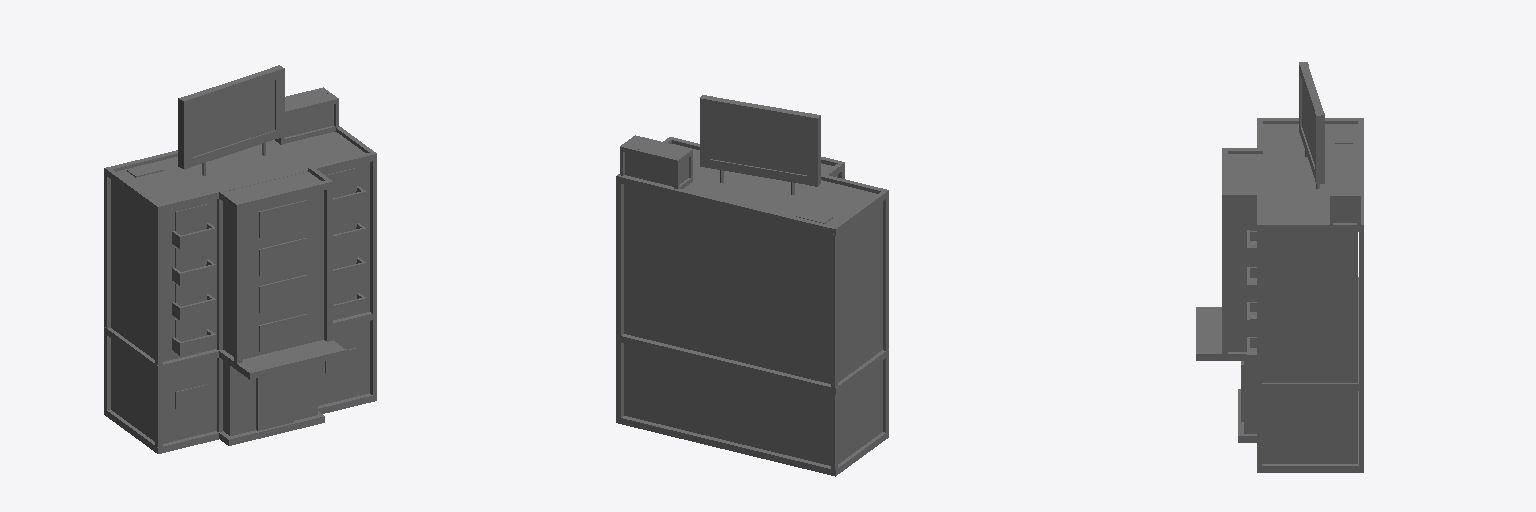
File: BUILDING_02.obj
3 renders of one model, left to right at view 1: azimuth 30°, elevation 25°; view 2: azimuth 150°, elevation 25°; view 3: azimuth 270°, elevation 25°, orthographic.
Visible parts, largest first — view 1: BUILDING_02:polySurface1; view 2: BUILDING_02:polySurface1; view 3: BUILDING_02:polySurface1.
Boxes of the visible parts, box(x1,y1,x2,y2) form: BUILDING_02:polySurface1: box(104, 65, 376, 453); BUILDING_02:polySurface1: box(616, 95, 888, 476); BUILDING_02:polySurface1: box(1196, 62, 1363, 472).
Bounding box in the file's own units: 9.3 × 13.21 × 6.19.